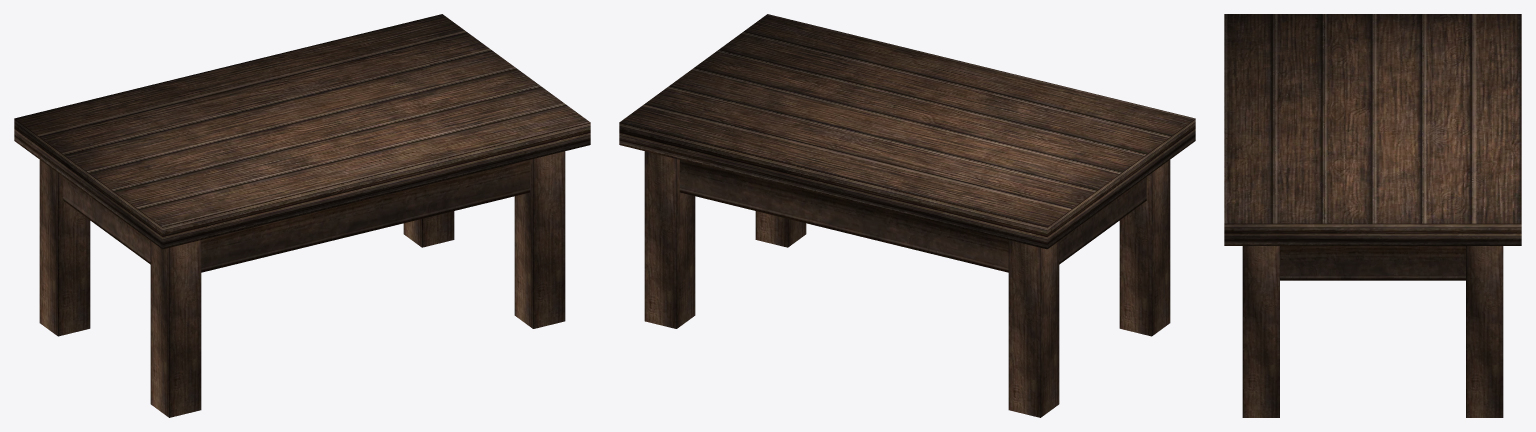
The model's file is GS_CITY_TABLE_NORMAL_ORANGE_01_KOZA.glb.
The picture shows the model from 3 angles, left to right: view 1: azimuth 30°, elevation 25°; view 2: azimuth 150°, elevation 25°; view 3: azimuth 270°, elevation 25°; orthographic projection.
Visible parts, largest first — view 1: Mesh; view 2: Mesh; view 3: Mesh.
Part boxes in pixels (box(x1,y1,x2,y2)): Mesh: box(14, 14, 590, 417); Mesh: box(619, 14, 1195, 417); Mesh: box(1224, 14, 1521, 417).
Size of the model in its own units: 2 by 0.9 by 1.2.
2 materials, 2 textured.
